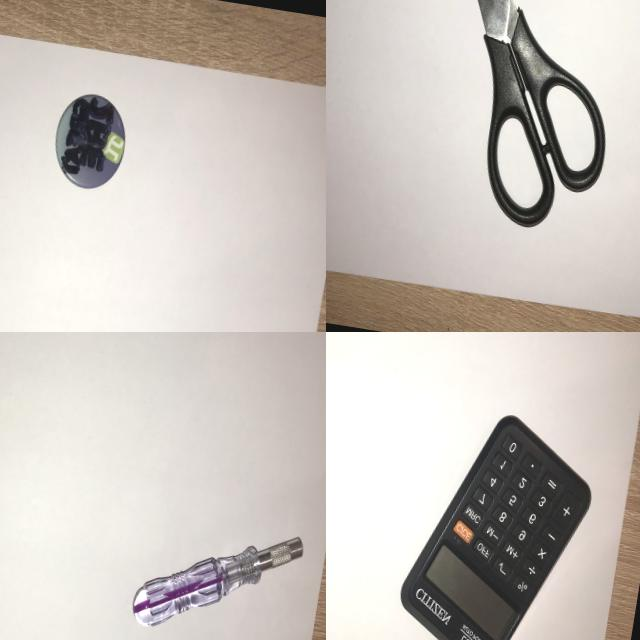calculator: (385, 397, 610, 640)
icon: (44, 82, 136, 201)
scissors: (366, 0, 640, 246)
screwdriver: (125, 506, 311, 640)
